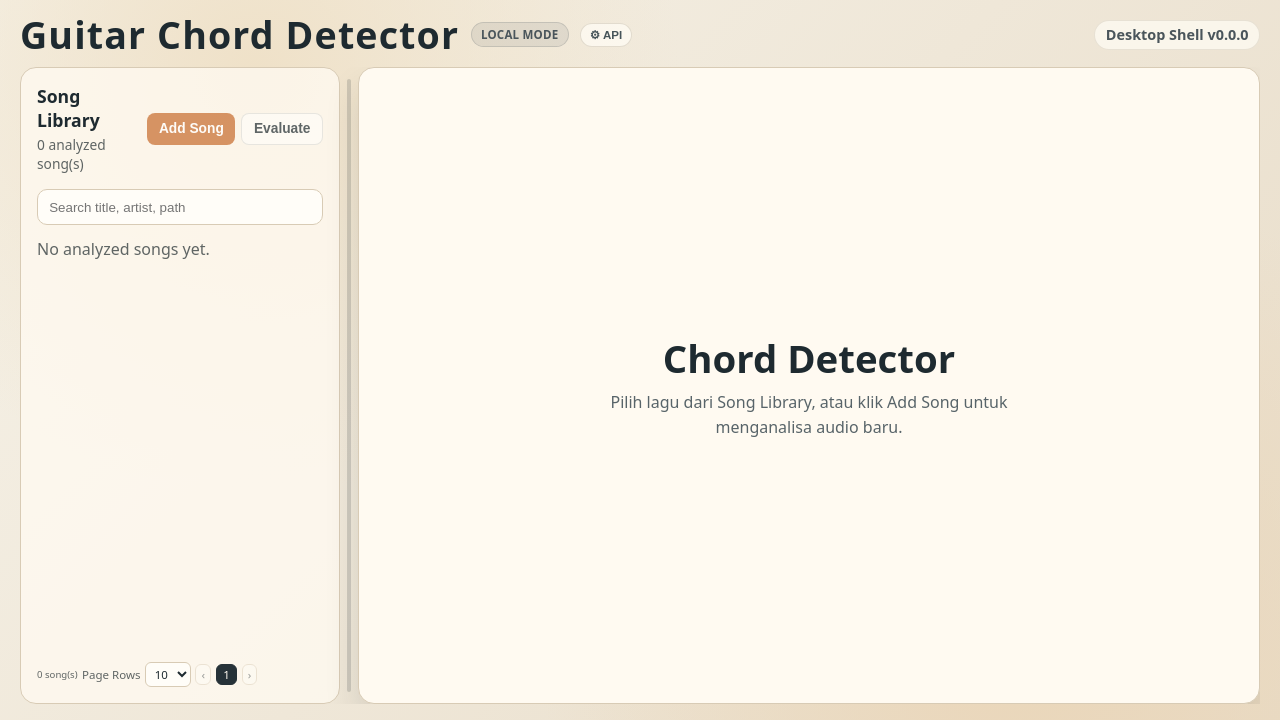
Test: App › re-analyze bypasses cache request path, reruns analysis, and clears old result immediately
Click the button "Add Song": (191, 129) x1=147 y1=113 x2=235 y2=145
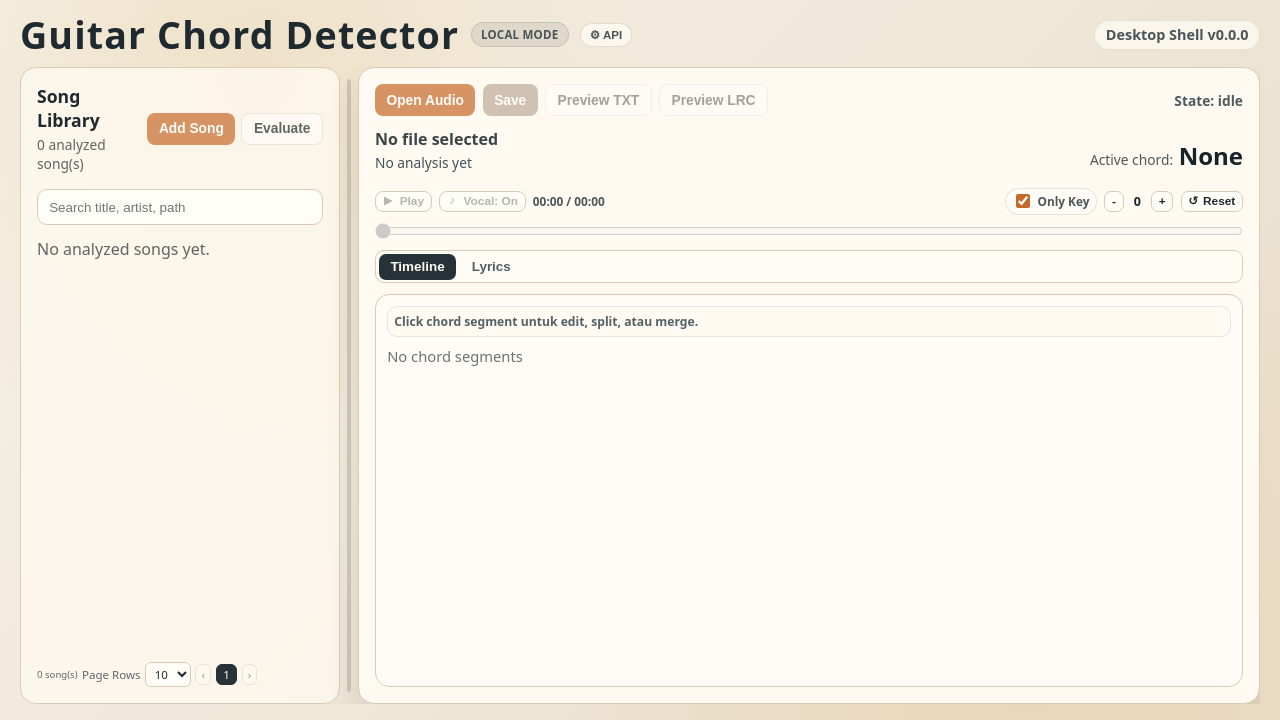
Click the button "Open Audio": (425, 100) x1=375 y1=84 x2=475 y2=116
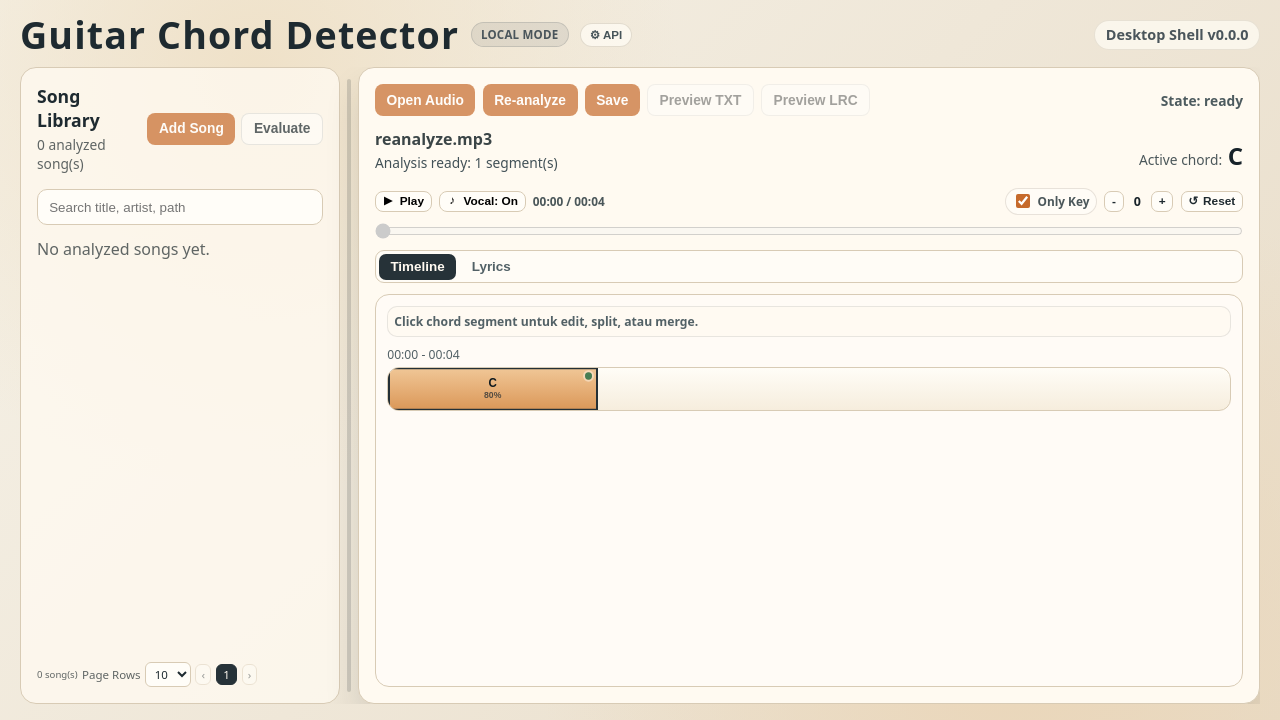
Result: the text "Analysis ready: 1 segment(s)" is shown at x1=375 y1=153 x2=558 y2=172
Click the button "Re-analyze": (530, 100) x1=483 y1=84 x2=578 y2=116
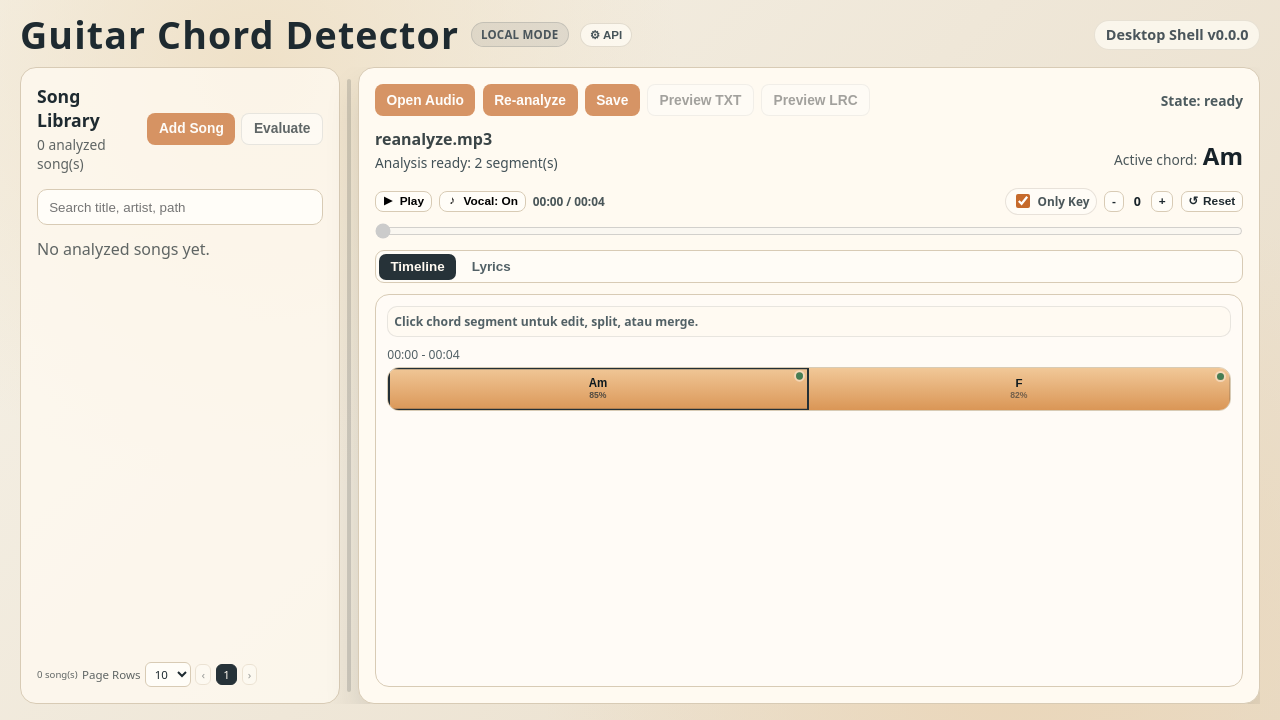
Result: the text "State: ready" is shown at x1=1161 y1=90 x2=1243 y2=110
Result: the text "Analysis ready: 1 segment(s)" is gone
Result: the text "Analysis ready: 2 segment(s)" is shown at x1=375 y1=153 x2=558 y2=172
